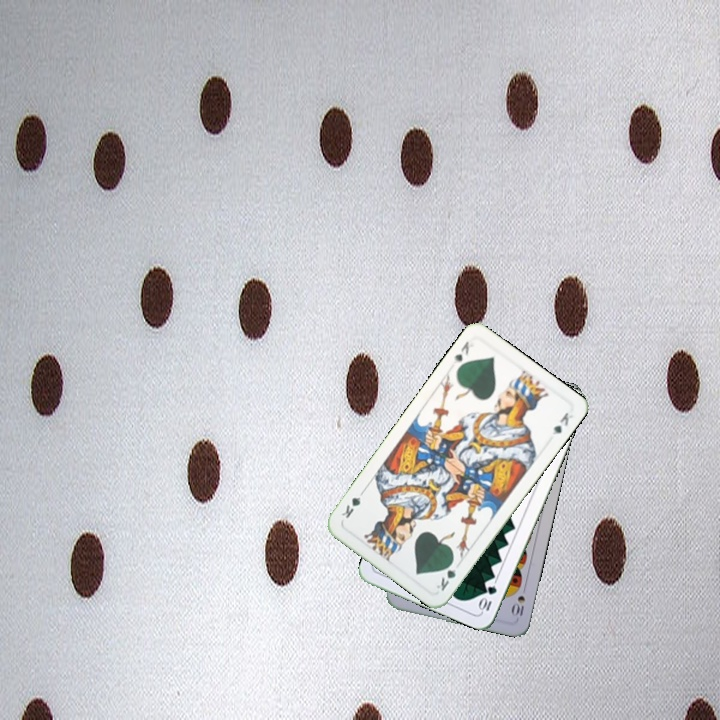G10: (475, 582, 500, 614)
GK: (432, 556, 459, 593), (449, 337, 476, 368)
S10: (508, 591, 528, 620)
